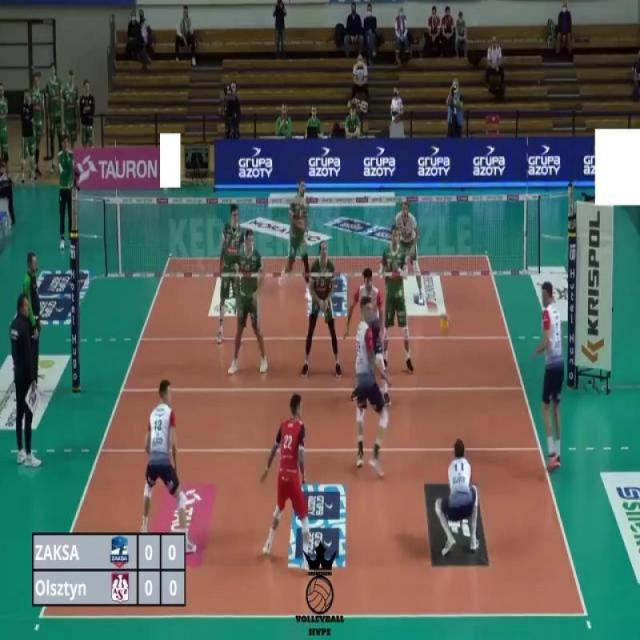volleyball: (438, 312, 451, 336)
